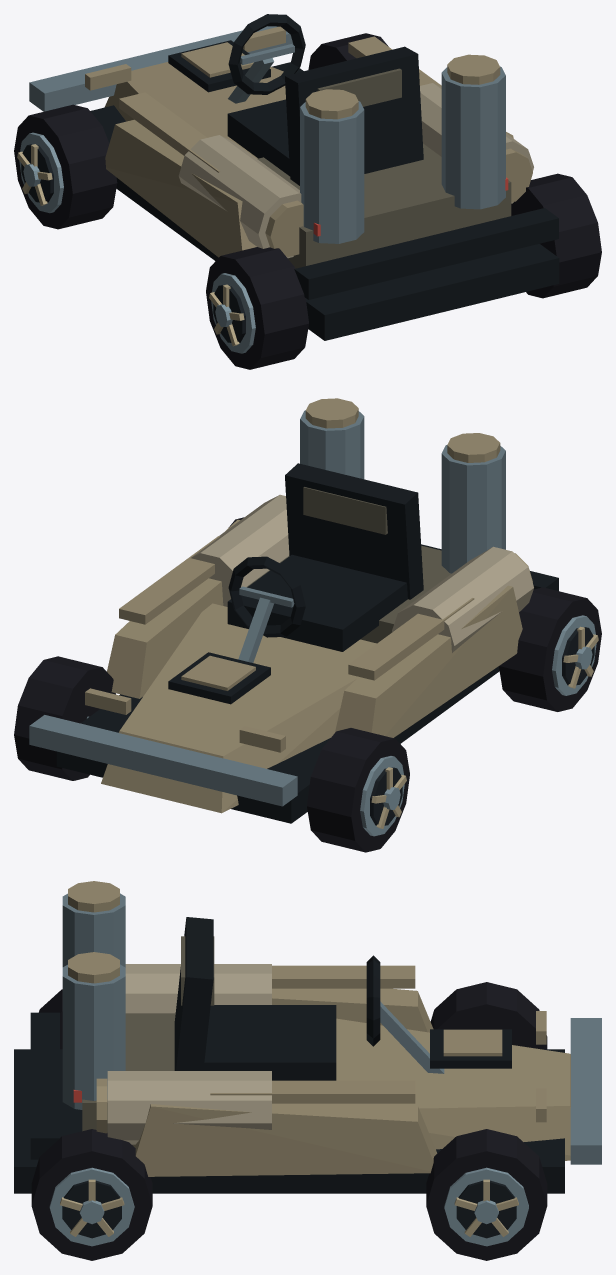
The model's file is kart.glb.
3 renders of one model, top to bottom at view 1: azimuth 30°, elevation 25°; view 2: azimuth 150°, elevation 25°; view 3: azimuth 270°, elevation 25°, orthographic. The views are drawn at different scales.
Visible parts, largest first — view 1: chassis, wheel-rear-left, wheel-front-left, wheel-rear-right, wheel-front-right; view 2: chassis, wheel-front-left, wheel-rear-left, wheel-front-right; view 3: chassis, wheel-front-right, wheel-rear-right, wheel-front-left.
Boxes of the visible parts, x1,y1,x2,y2 form: chassis: (29, 14, 559, 340); wheel-rear-left: (206, 247, 308, 369); wheel-front-left: (14, 104, 117, 229); wheel-rear-right: (511, 173, 601, 298); wheel-front-right: (308, 33, 388, 69); chassis: (29, 398, 558, 823); wheel-front-left: (307, 728, 409, 852); wheel-rear-left: (498, 587, 601, 711); wheel-front-right: (14, 656, 115, 780); chassis: (14, 881, 601, 1193); wheel-front-right: (426, 1129, 547, 1260); wheel-rear-right: (31, 1129, 152, 1260); wheel-front-left: (430, 982, 547, 1049).
Size of the model in its own units: 2.22 by 1.4 by 3.01.
